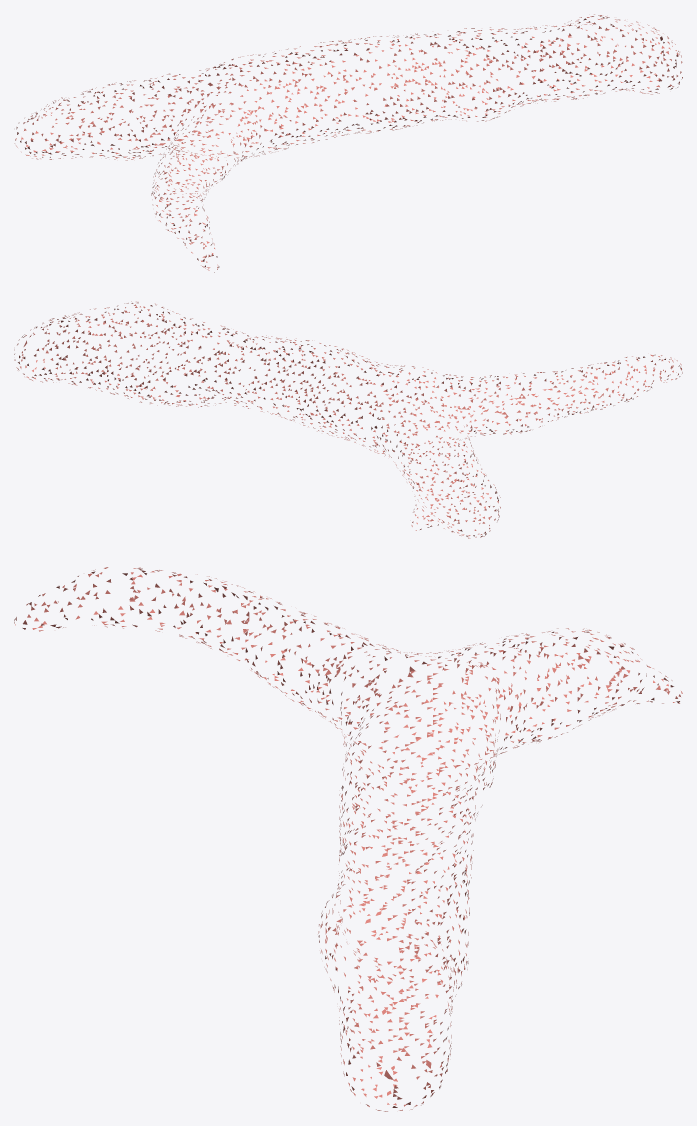
File: morph_001.glb
3 views of the same model, one above another, from view 1: azimuth 30°, elevation 25°; view 2: azimuth 150°, elevation 25°; view 3: azimuth 270°, elevation 25° (orthographic). The views are drawn at different scales.
Bounding box in the file's own units: 131 × 23.46 × 86.7.
